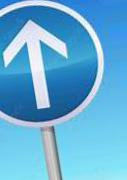forward: (1, 1, 103, 126)
